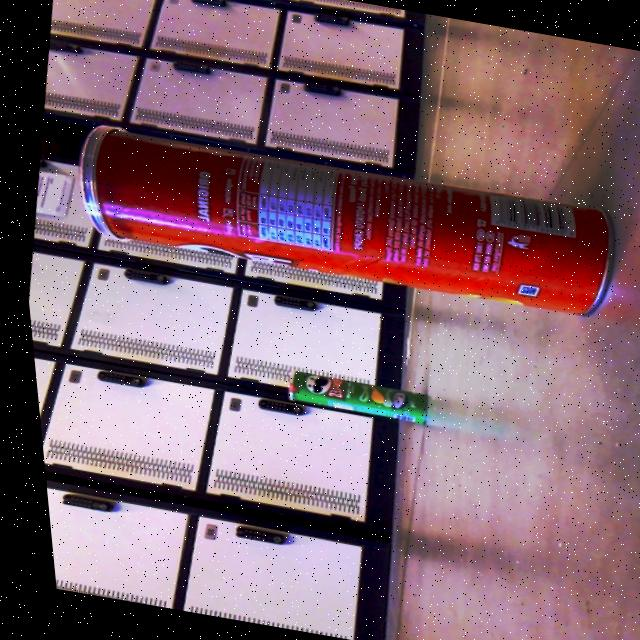greenpringles: (268, 359, 434, 438)
redpringles: (47, 104, 636, 350)
